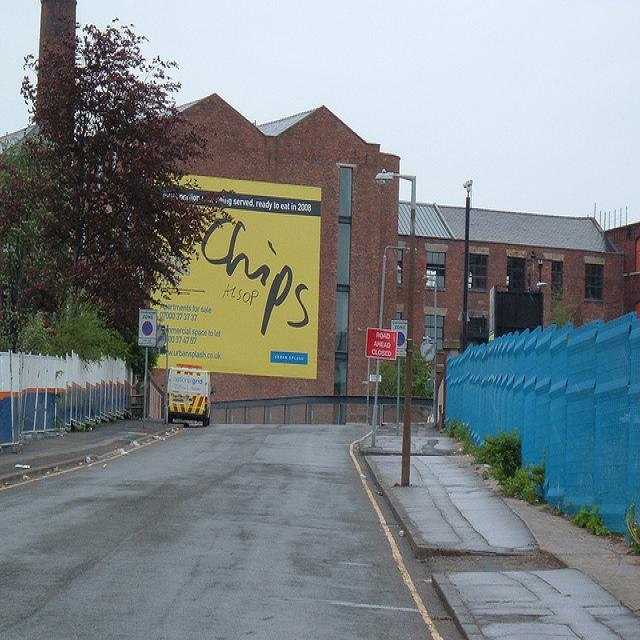Vehicle: (168, 361, 211, 429)
